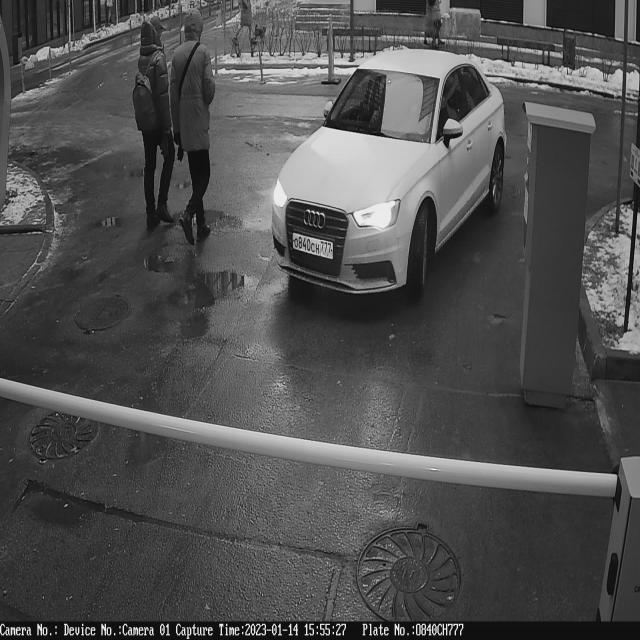car-plate-numbers: (291, 228, 336, 265)
